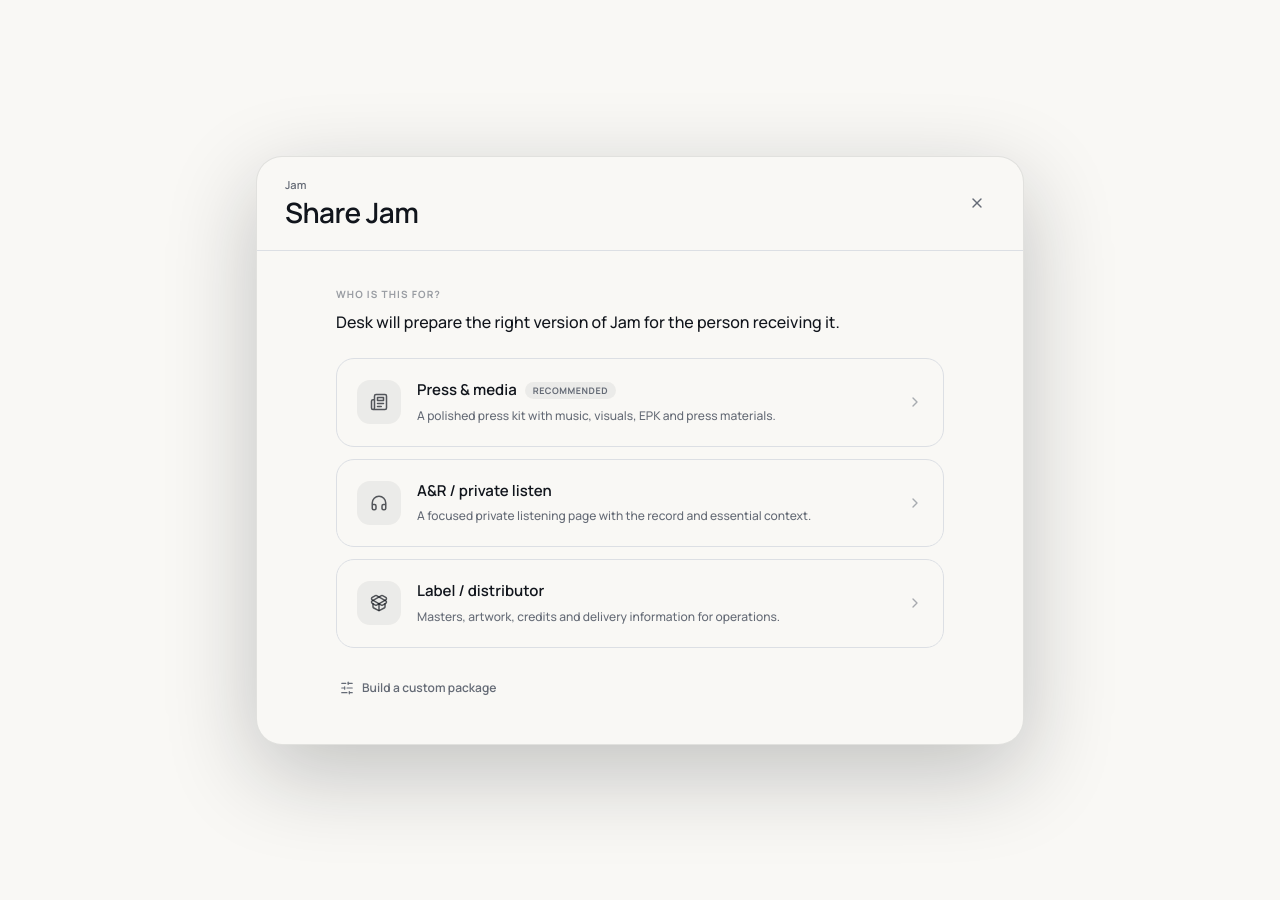
MusicShareDialog › keeps outbound pitch documents available only for explicit custom sharing
Click the button "Build a custom package" at (418, 688), box x1=336 y1=668 x2=500 y2=708
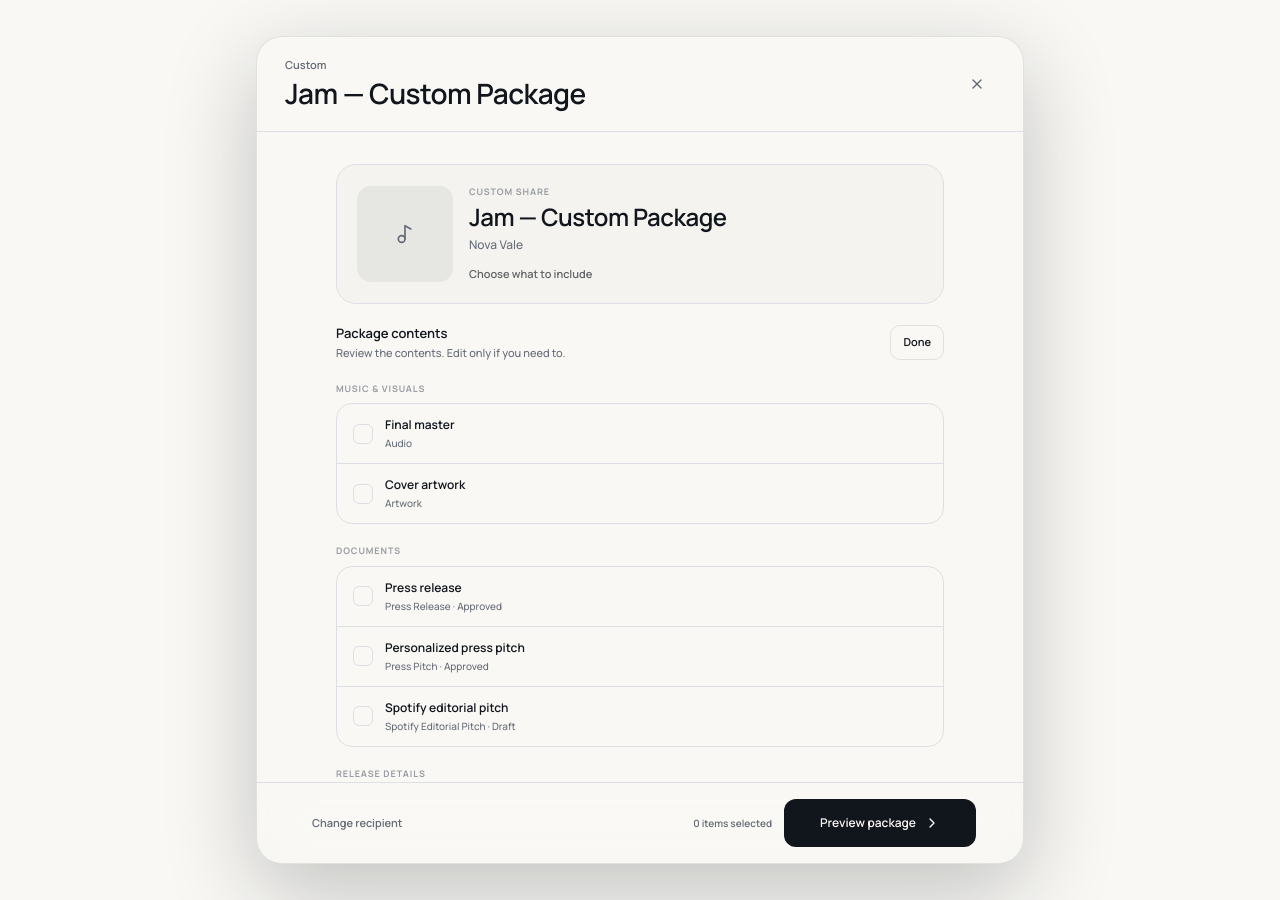
Result: the checkbox labelled "Personalized press pitch" is not checked at x1=337 y1=626 x2=943 y2=686
Result: the checkbox labelled "Spotify editorial pitch" is not checked at x1=337 y1=686 x2=943 y2=746
